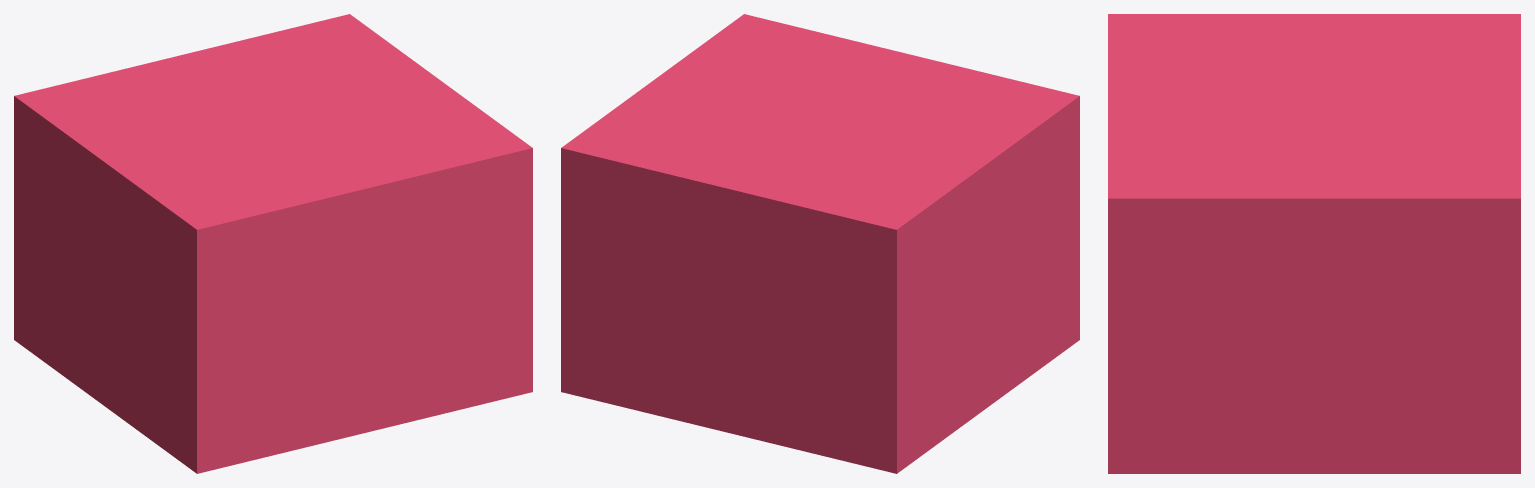
File: parcelSPXMY0060.glb
3 renders of one model, left to right at view 1: azimuth 30°, elevation 25°; view 2: azimuth 150°, elevation 25°; view 3: azimuth 270°, elevation 25°, orthographic. The views are drawn at different scales.
Parts seen in each view (by area): view 1: color; view 2: color; view 3: color.
Part boxes in pixels (x1,y1,x2,y2): color: (14,14,532,473); color: (561,14,1079,473); color: (1108,14,1520,473).
Bounding box in the file's own units: 0.036 × 0.025 × 0.034.
